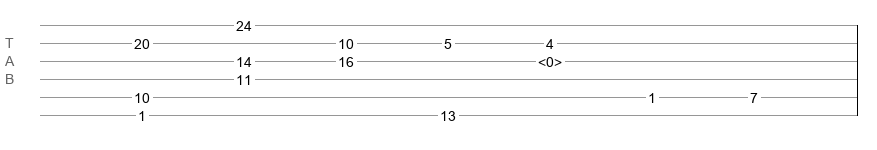1: (138, 108, 146, 118), (648, 90, 656, 100)
10: (134, 90, 150, 100), (338, 36, 354, 46)
11: (236, 72, 252, 82)
13: (440, 108, 456, 118)
14: (236, 54, 252, 64)
16: (338, 54, 354, 64)
20: (134, 36, 150, 46)
24: (236, 18, 252, 28)
4: (546, 36, 554, 46)
5: (444, 36, 452, 46)
7: (750, 90, 758, 100)
harmonic: (538, 54, 562, 64)
